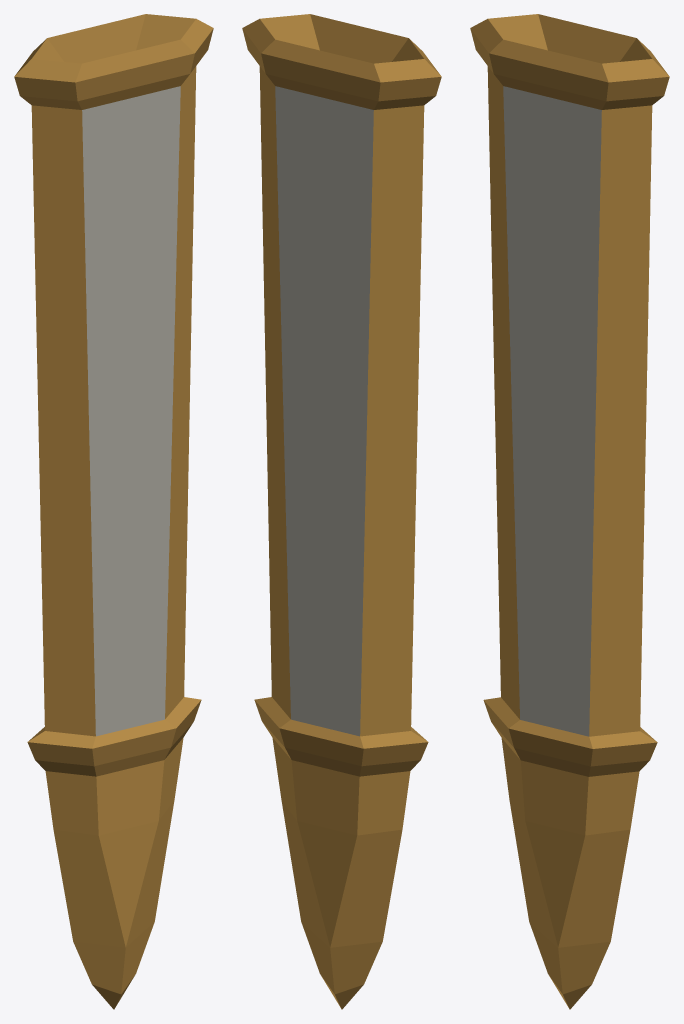
File: SM_pwe_egypt_dagger_scabbard_01.fbx
3 views of the same model, side by side, from view 1: azimuth 30°, elevation 25°; view 2: azimuth 150°, elevation 25°; view 3: azimuth 330°, elevation 25° (orthographic).
Visible parts, largest first — view 1: SM_pwe_egypt_dagger_scabbard_01; view 2: SM_pwe_egypt_dagger_scabbard_01; view 3: SM_pwe_egypt_dagger_scabbard_01.
Part boxes in pixels (x1=…): SM_pwe_egypt_dagger_scabbard_01: x1=14, y1=14, x2=213, y2=1009; SM_pwe_egypt_dagger_scabbard_01: x1=242, y1=14, x2=441, y2=1009; SM_pwe_egypt_dagger_scabbard_01: x1=470, y1=14, x2=669, y2=1009.
Bounding box in the file's own units: 7.37 × 34.24 × 2.71.
